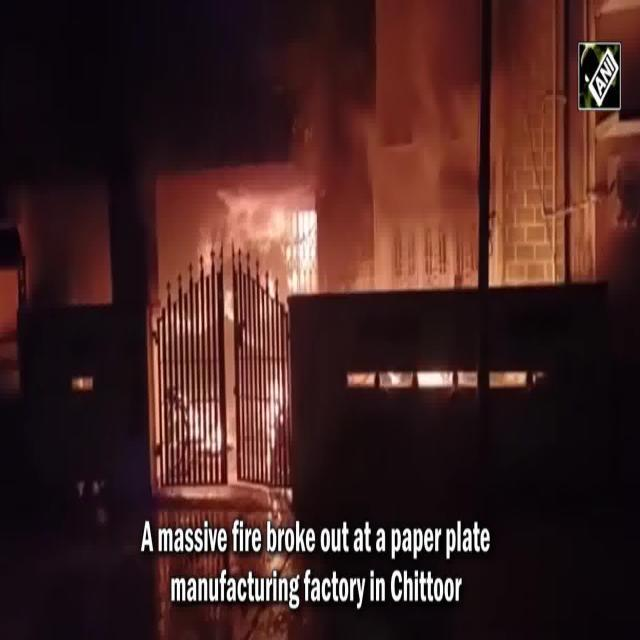Fire: (178, 213, 292, 474)
